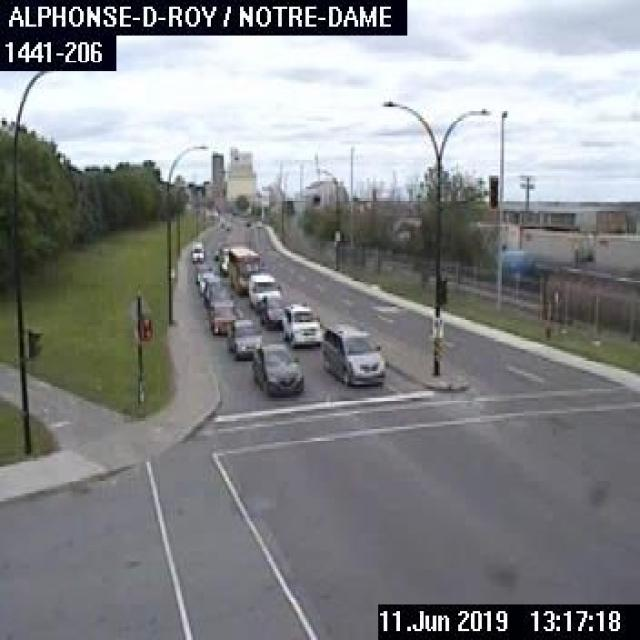bus: (224, 246, 260, 295)
vehicle: (321, 320, 385, 388), (248, 340, 306, 398), (279, 298, 323, 347), (225, 316, 261, 358), (244, 268, 281, 308), (206, 297, 235, 335), (257, 290, 284, 330), (203, 279, 227, 305), (188, 237, 204, 263)
